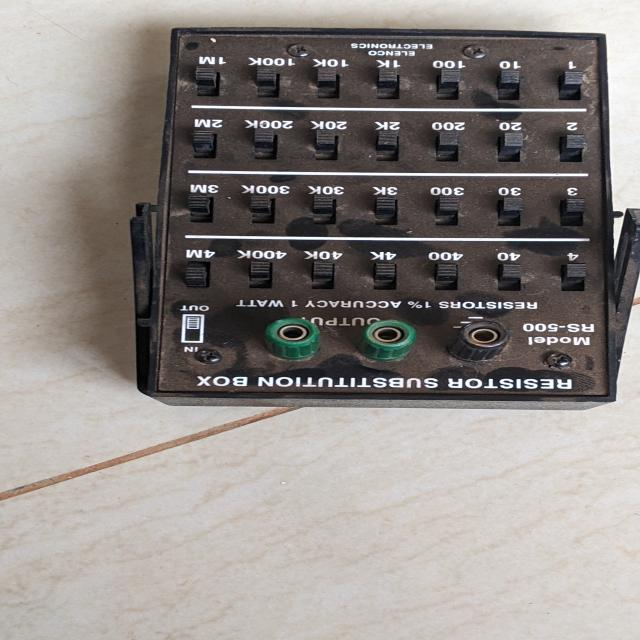Resistor Substitution Box: (110, 18, 640, 420)
